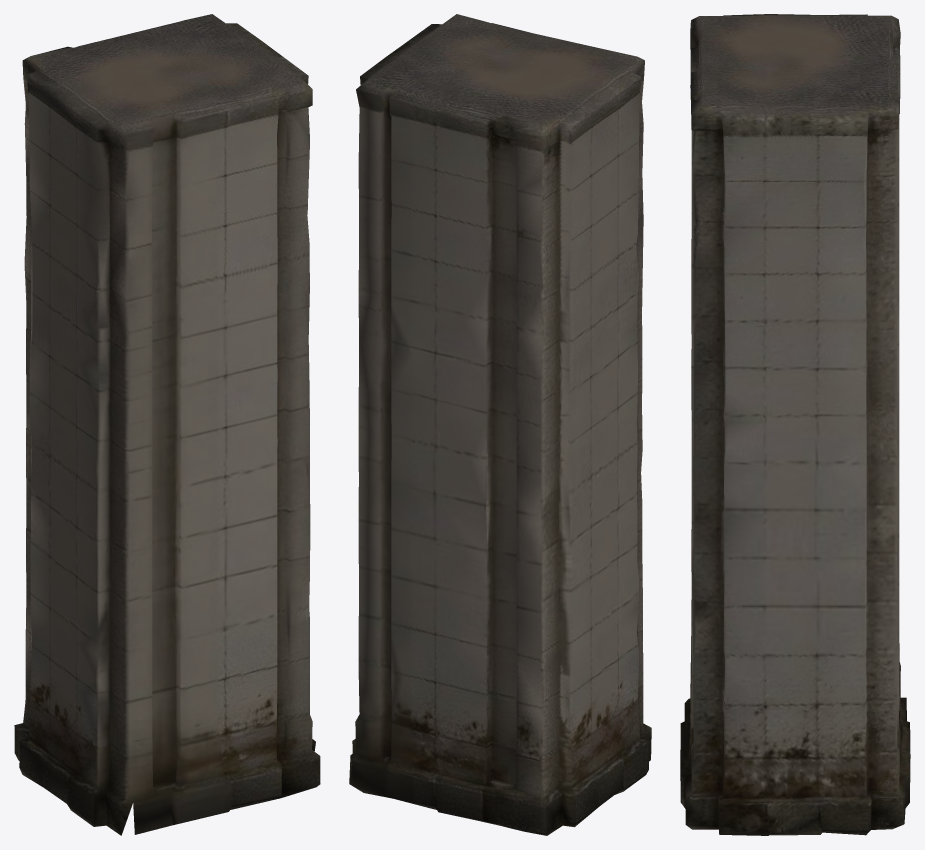
The model's file is sutun2.glb.
The picture shows the model from 3 angles, left to right: view 1: azimuth 30°, elevation 25°; view 2: azimuth 150°, elevation 25°; view 3: azimuth 270°, elevation 25°; orthographic projection. The views are drawn at different scales.
Visible parts, largest first — view 1: tripo_node_1f91a4f5-8e6b-4793-ac41-afb8d5ba1a52; view 2: tripo_node_1f91a4f5-8e6b-4793-ac41-afb8d5ba1a52; view 3: tripo_node_1f91a4f5-8e6b-4793-ac41-afb8d5ba1a52.
Part boxes in pixels (x1=…): tripo_node_1f91a4f5-8e6b-4793-ac41-afb8d5ba1a52: x1=14, y1=14, x2=320, y2=835; tripo_node_1f91a4f5-8e6b-4793-ac41-afb8d5ba1a52: x1=349, y1=14, x2=651, y2=835; tripo_node_1f91a4f5-8e6b-4793-ac41-afb8d5ba1a52: x1=680, y1=14, x2=910, y2=835.
Bounding box in the file's own units: 0.3304 × 1 × 0.2895.
1 material, 1 textured.
